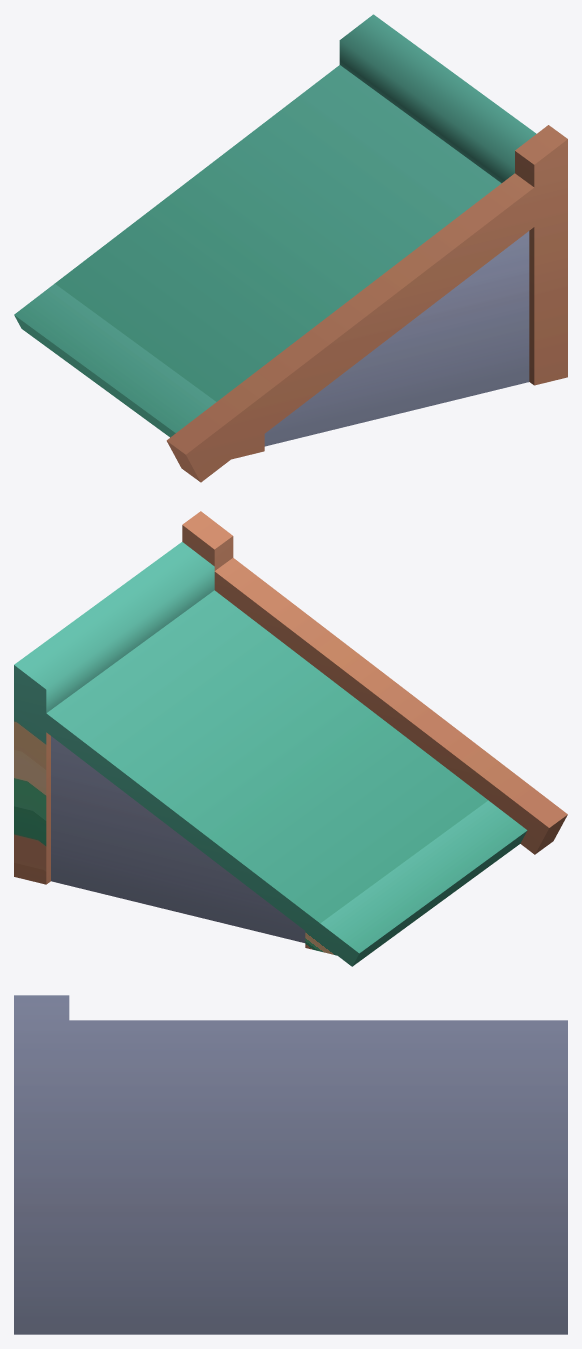
Rendered from kenney-fantasy-town-roof-right.glb.
The picture shows the model from 3 angles, top to bottom: view 1: azimuth 30°, elevation 25°; view 2: azimuth 150°, elevation 25°; view 3: azimuth 270°, elevation 25°; orthographic projection. The views are drawn at different scales.
Parts seen in each view (by area): view 1: roof-right; view 2: roof-right; view 3: roof-right.
Part boxes in pixels (x1,y1,x2,y2): roof-right: (14,14,567,482); roof-right: (14,511,567,966); roof-right: (14,995,567,1334).
Bounding box in the file's own units: 1.13 × 0.7206 × 1.
1 material, 1 textured.
